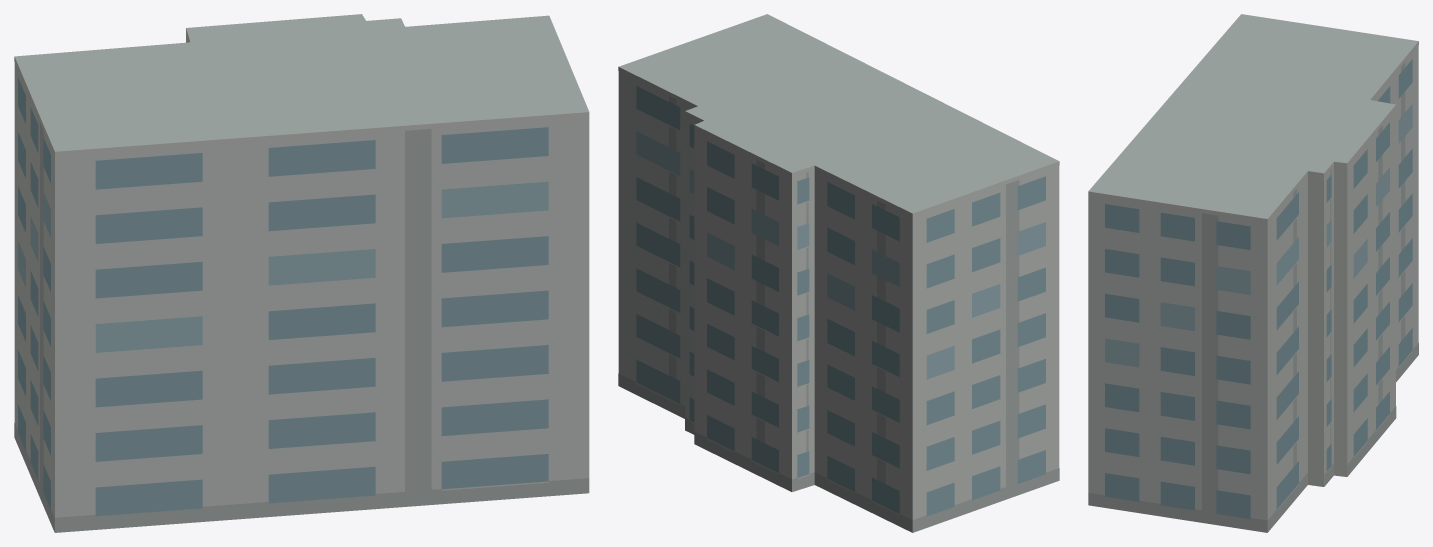
Rendered from survey-upis-32533523.glb.
3 renders of one model, left to right at view 1: azimuth 30°, elevation 25°; view 2: azimuth 150°, elevation 25°; view 3: azimuth 270°, elevation 25°, orthographic. The views are drawn at different scales.
Visible parts, largest first — view 1: survey-upis-32533523.tmp; view 2: survey-upis-32533523.tmp; view 3: survey-upis-32533523.tmp.
Part boxes in pixels (x1=…): survey-upis-32533523.tmp: x1=14, y1=14, x2=589, y2=532; survey-upis-32533523.tmp: x1=618, y1=14, x2=1059, y2=532; survey-upis-32533523.tmp: x1=1088, y1=14, x2=1418, y2=532.
Bounding box in the file's own units: 26.08 × 18.6 × 17.77.
